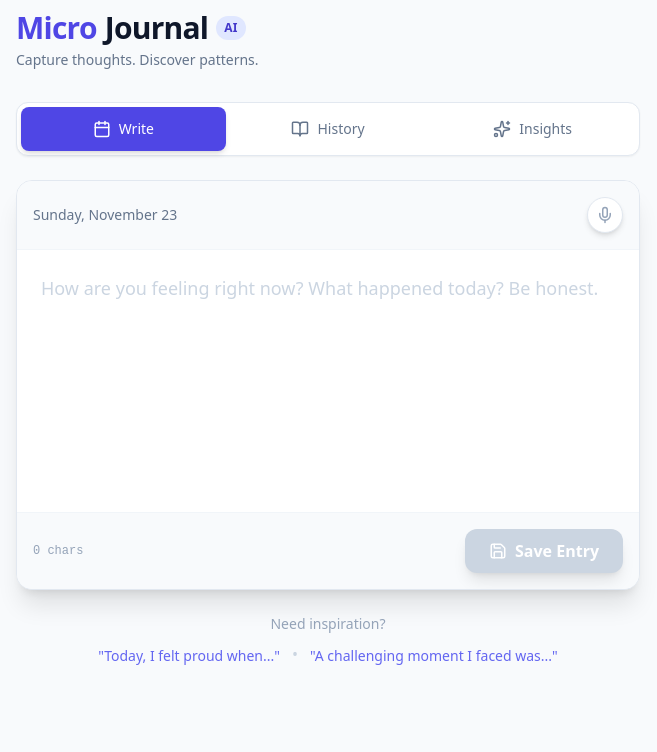
Test: App › Insights View › generates and displays AI insights
Type "I am learning to write tests in Vitest." into the text box with placeholder "How are you feeling right now?" at (328, 378), box [17,250,639,506]
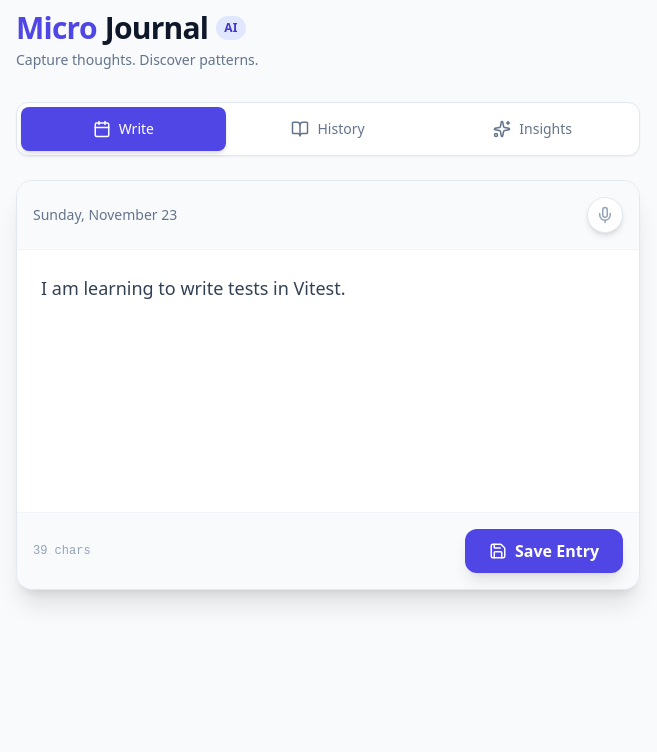
Click the button "Save Entry" at (544, 551), box [465,529,623,573]
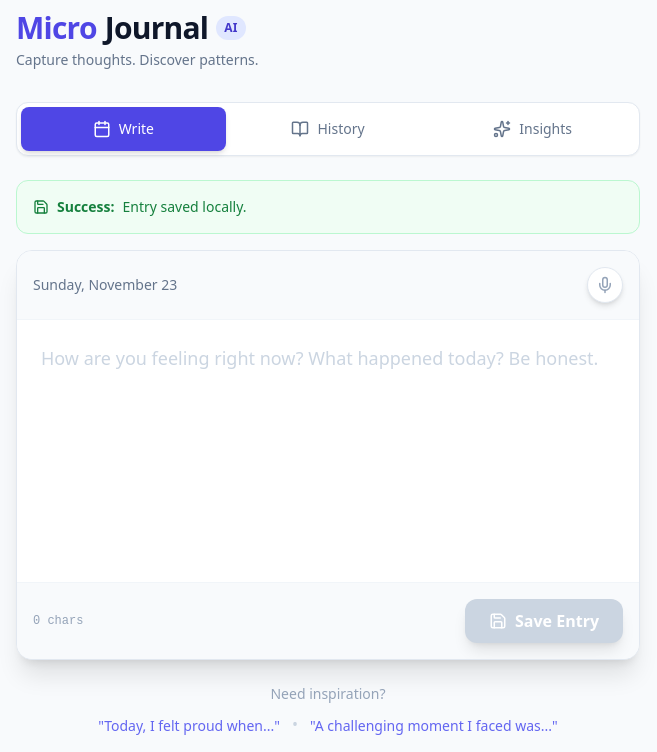
Click the button "Insights" at (533, 129), box [430,107,635,151]
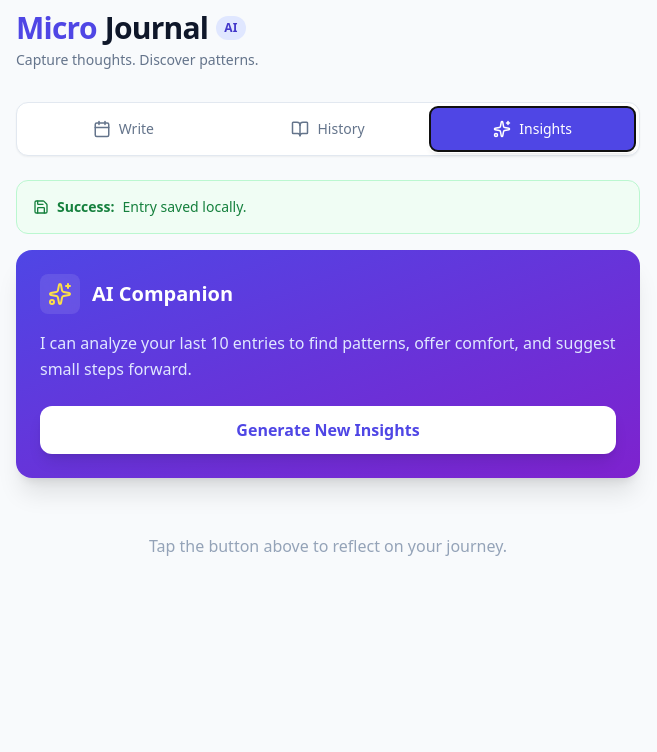
Click the button "Generate New Insights" at (328, 430), box [40,406,616,454]
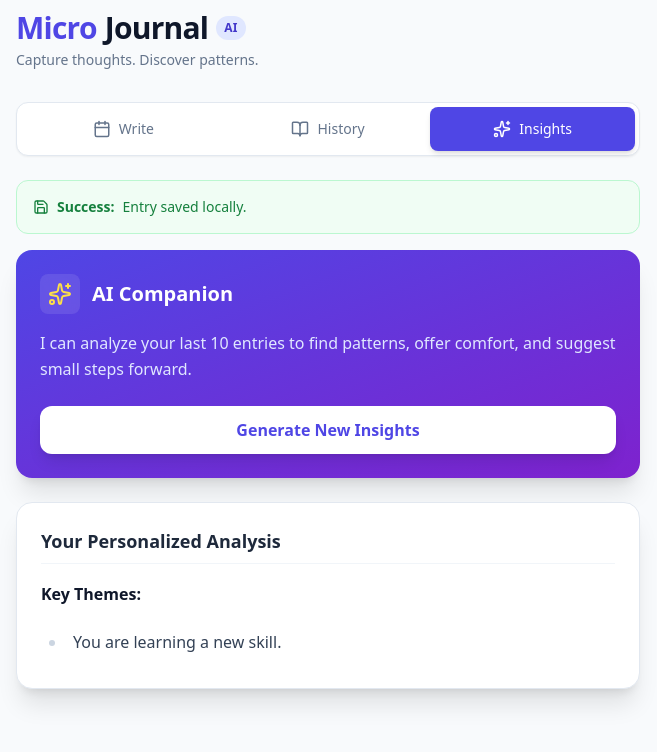
Expected: the list item "You are learning a new skill." is shown, [73,631,281,653]
